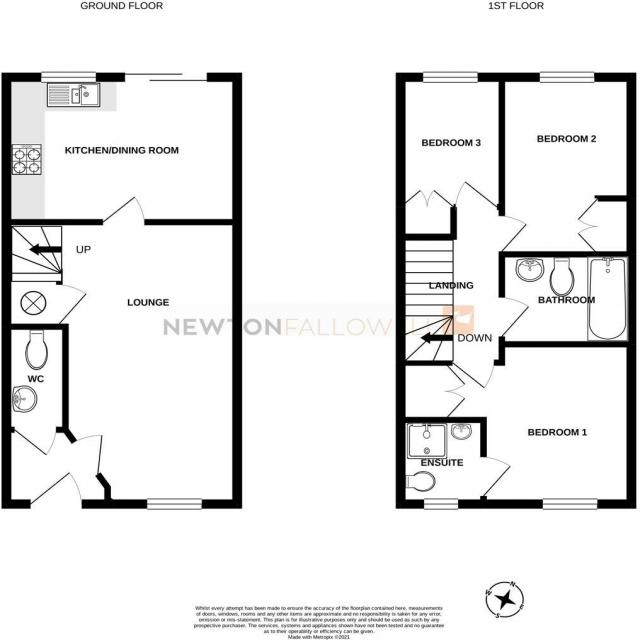DOOR: (20, 469, 85, 509), (97, 193, 148, 226), (497, 295, 532, 341), (10, 426, 59, 458), (448, 359, 497, 391), (480, 454, 514, 500), (70, 433, 104, 477), (497, 214, 532, 256), (57, 281, 89, 326), (454, 179, 498, 210)
ROOM: (1, 225, 243, 508), (396, 341, 636, 509), (1, 72, 242, 225), (498, 72, 636, 258), (396, 72, 506, 241)
SLIDING DOOR: (123, 72, 209, 82)
WINDOW: (538, 70, 595, 87), (39, 70, 97, 85), (540, 497, 599, 511), (146, 497, 203, 511), (423, 70, 480, 84), (423, 498, 459, 510)
